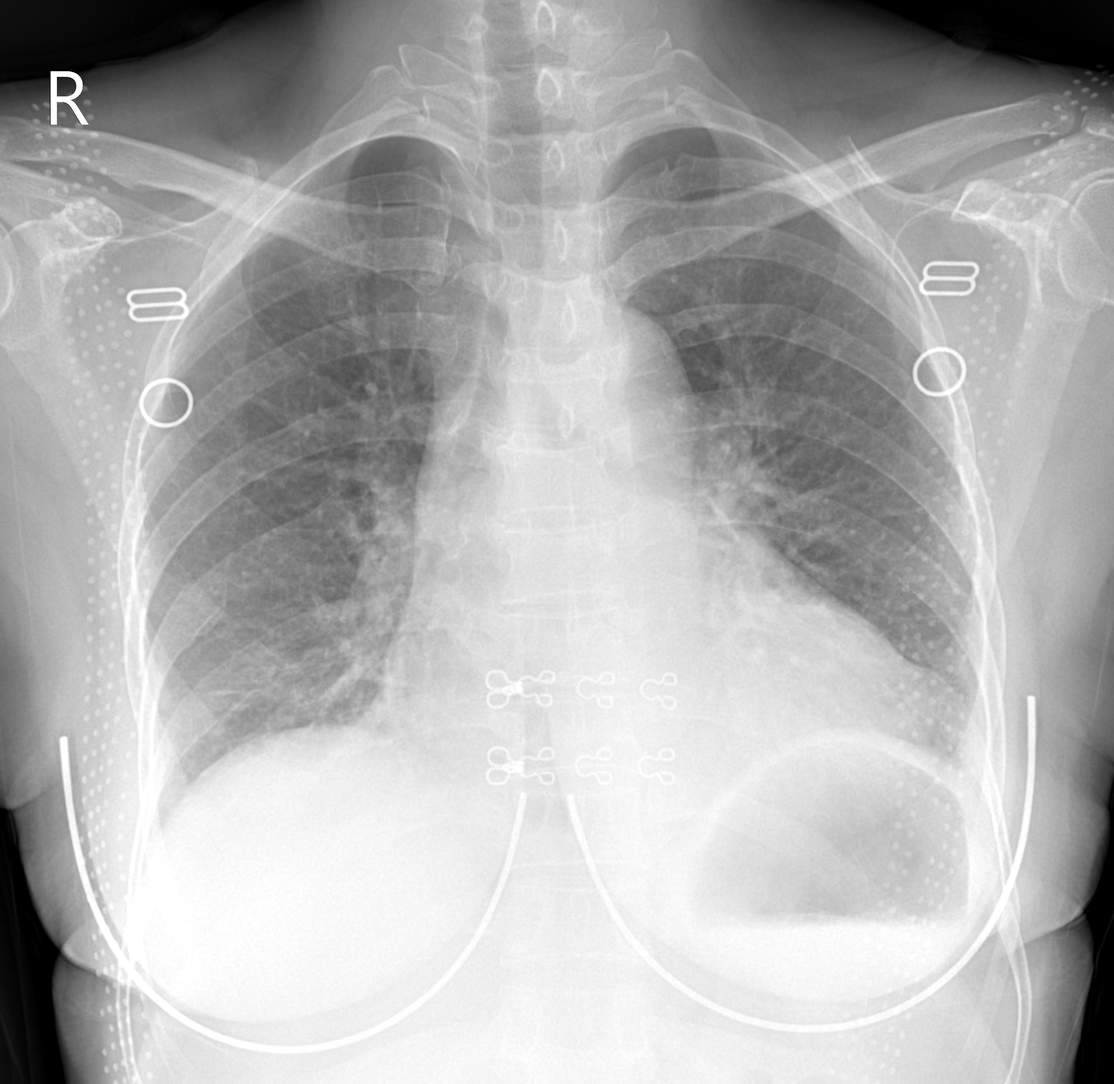Aortic enlargement: (543, 296, 699, 486)
Cardiomegaly: (355, 629, 927, 765)
